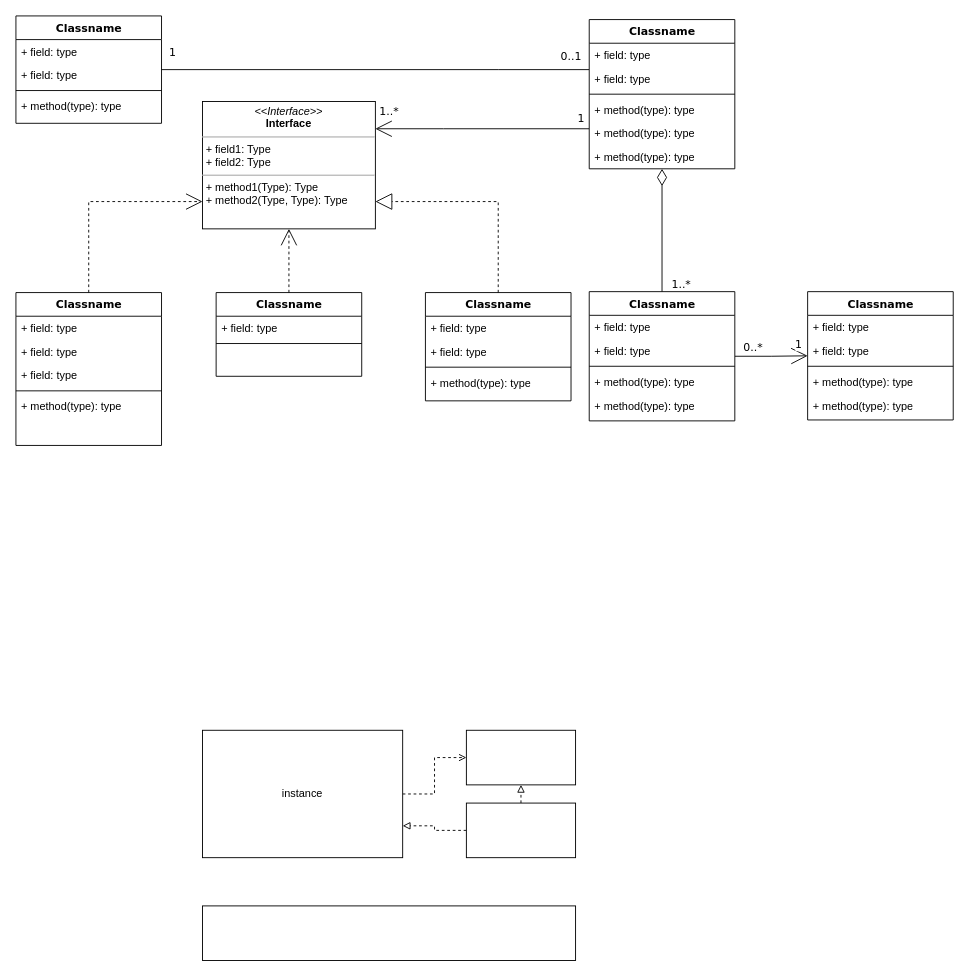
The diagram is 969 pixels wide and 976 high, and some of its shapes have lost their labels. Each missing label, with the centre of its shape:
"client" goes at [520,830].
"core" goes at [389,933].
"Entry_client" goes at [520,757].
